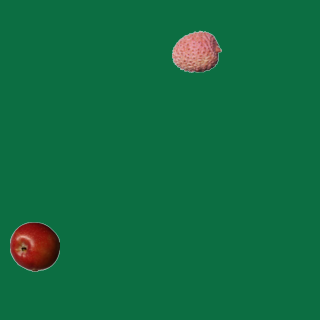Apple Braeburn: (9, 221, 59, 271)
Lychee: (171, 26, 221, 76)
